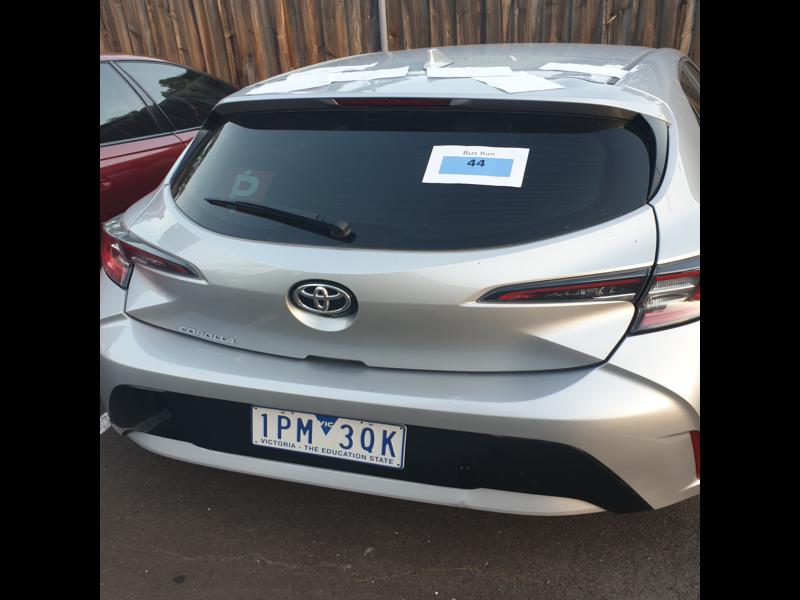BusRun: (437, 155, 515, 180)
PlateNo: (250, 407, 407, 471)
